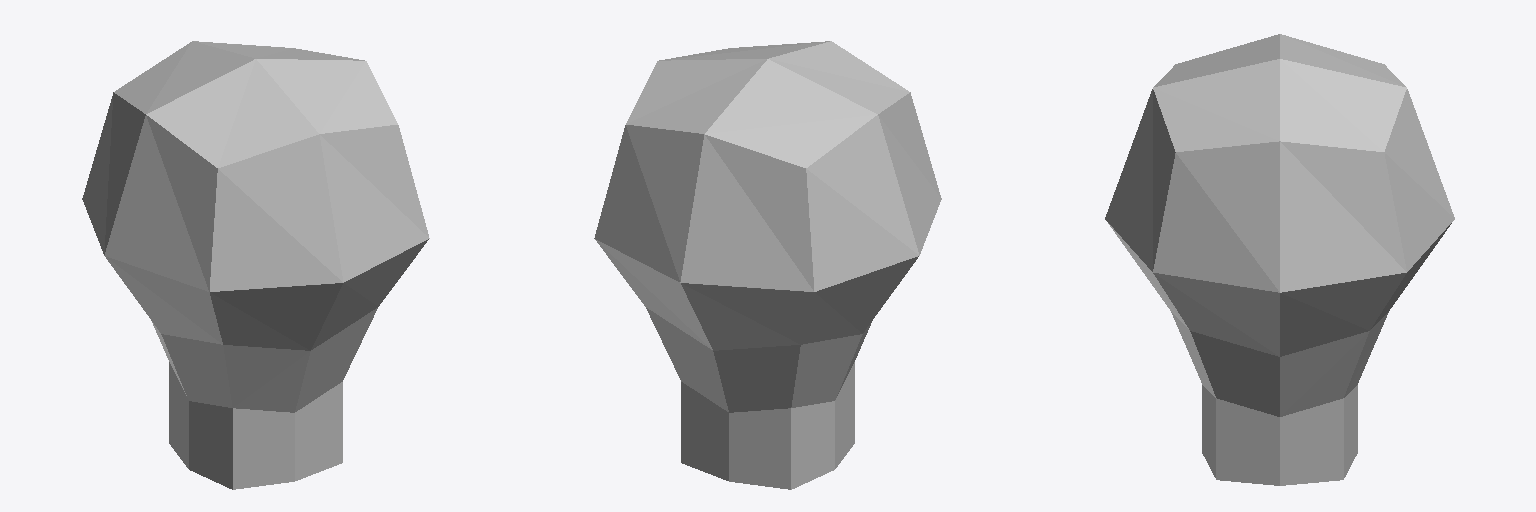
The model's file is lightbulb.obj.
The picture shows the model from 3 angles: view 1: azimuth 30°, elevation 25°; view 2: azimuth 150°, elevation 25°; view 3: azimuth 270°, elevation 25°; orthographic projection.
Visible parts, largest first — view 1: Cube; view 2: Cube; view 3: Cube.
Boxes of the visible parts, <box> form: Cube: <box>82,41,429,489</box>; Cube: <box>594,41,941,489</box>; Cube: <box>1105,34,1454,485</box>.
Size of the model in its own units: 2.23 by 2.77 by 2.23.